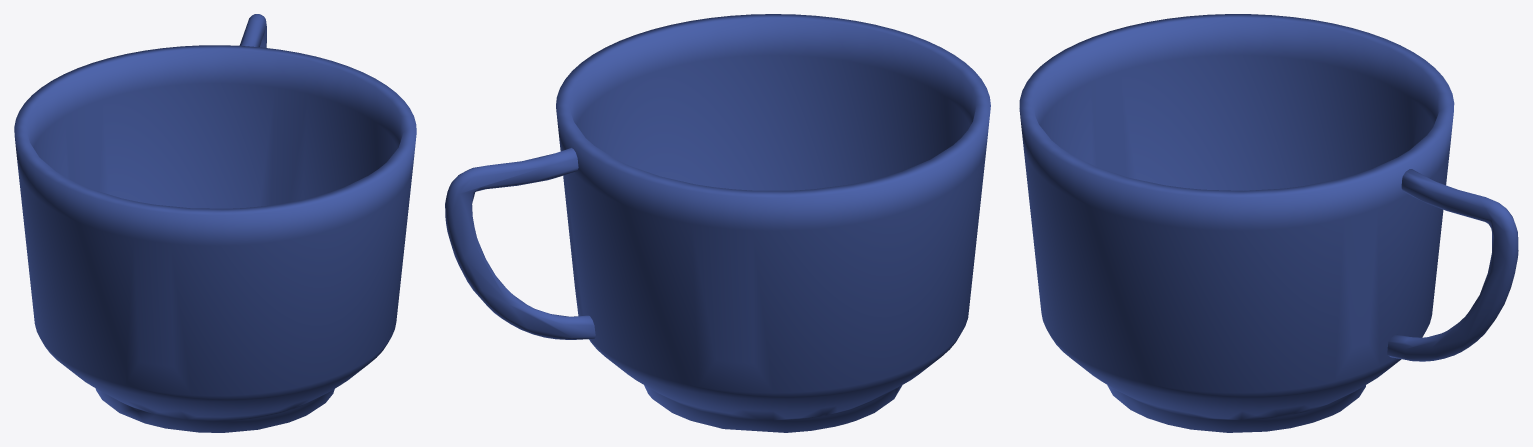
File: cup-blue.glb
The picture shows the model from 3 angles, left to right: view 1: azimuth 30°, elevation 25°; view 2: azimuth 150°, elevation 25°; view 3: azimuth 270°, elevation 25°; orthographic projection. The views are drawn at different scales.
Visible parts, largest first — view 1: Sphere.001; view 2: Sphere.001; view 3: Sphere.001.
Part boxes in pixels (x1,y1,x2,y2): Sphere.001: (14,14,416,432); Sphere.001: (445,14,990,432); Sphere.001: (1019,14,1518,432).
Size of the model in its own units: 0.4034 by 0.2775 by 0.4599.
